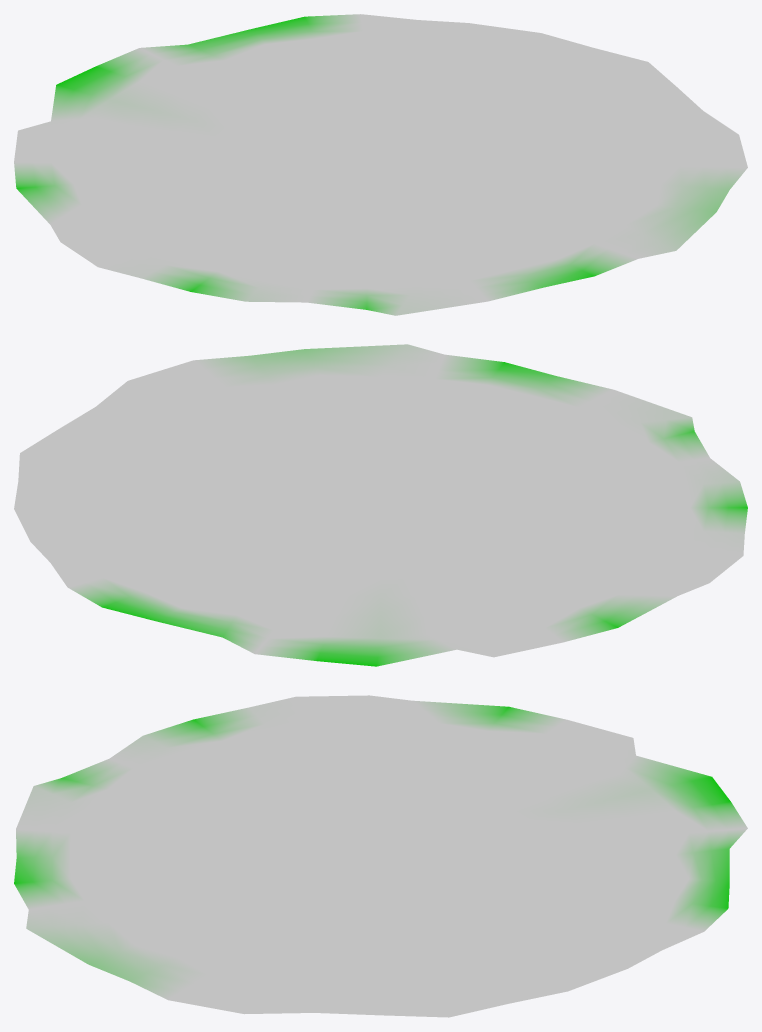
The model's file is CityTranslucent_101_1.FBX.
The picture shows the model from 3 angles, top to bottom: view 1: azimuth 30°, elevation 25°; view 2: azimuth 150°, elevation 25°; view 3: azimuth 270°, elevation 25°; orthographic projection. The views are drawn at different scales.
Visible parts, largest first — view 1: Object001; view 2: Object001; view 3: Object001.
Boxes of the visible parts, x1,y1,x2,y2 form: Object001: [14, 14, 747, 315]; Object001: [14, 344, 747, 666]; Object001: [14, 695, 747, 1017].
Bounding box in the file's own units: 995 × 3.67e-05 × 958.
